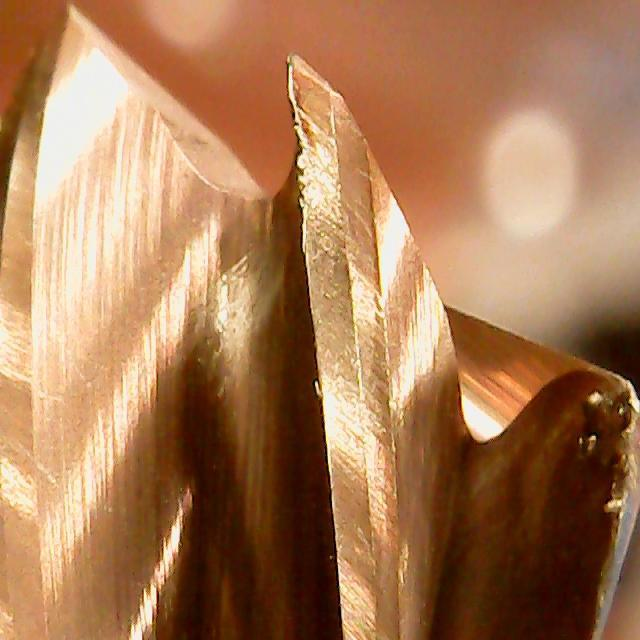Tool-wear-class-1: (258, 47, 444, 372)
